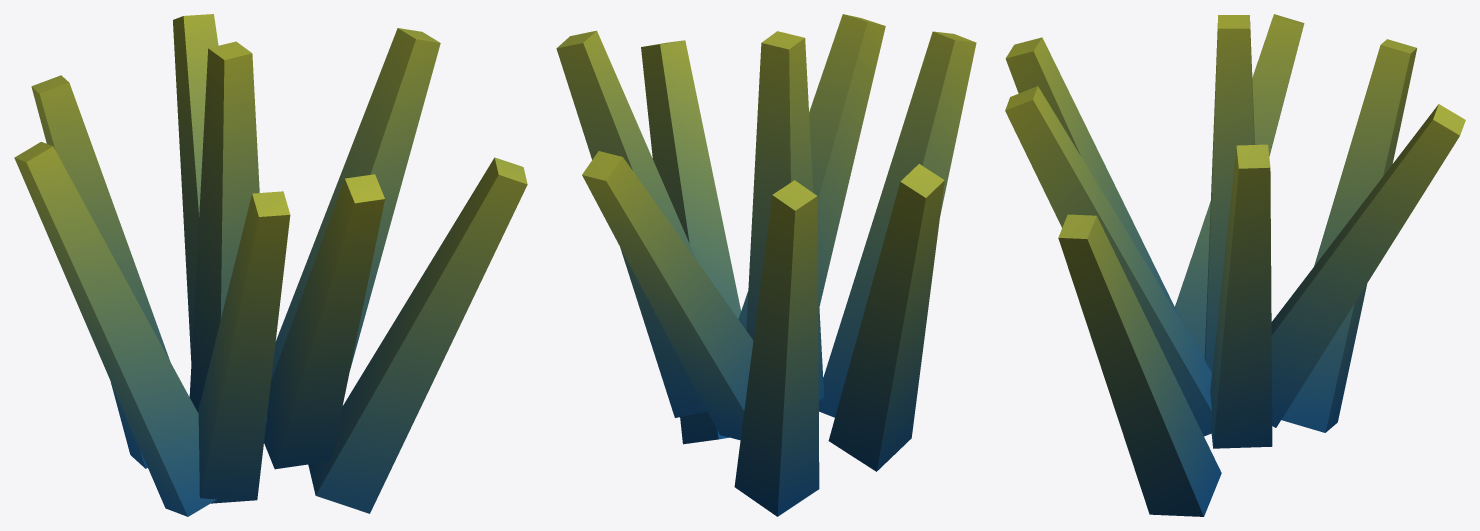
The model's file is CoralReef_03.fbx.
The picture shows the model from 3 angles, left to right: view 1: azimuth 30°, elevation 25°; view 2: azimuth 150°, elevation 25°; view 3: azimuth 270°, elevation 25°; orthographic projection.
Visible parts, largest first — view 1: grass_01; view 2: grass_01; view 3: grass_01.
Part boxes in pixels (bbox=[...]): grass_01: bbox=[14, 14, 527, 516]; grass_01: bbox=[556, 14, 976, 516]; grass_01: bbox=[1005, 14, 1465, 516].
Bounding box in the file's own units: 68.45 × 74.06 × 69.25.
Materials: 1 (1 with a texture image).
